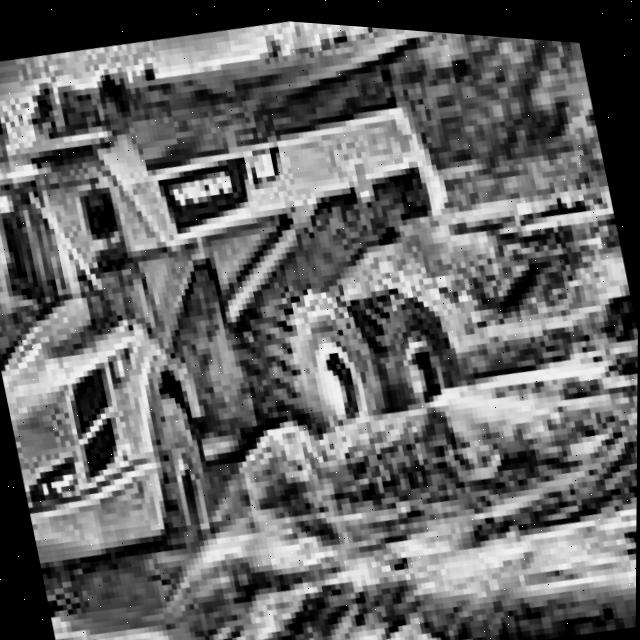dump_truck: (0, 13, 536, 627)
